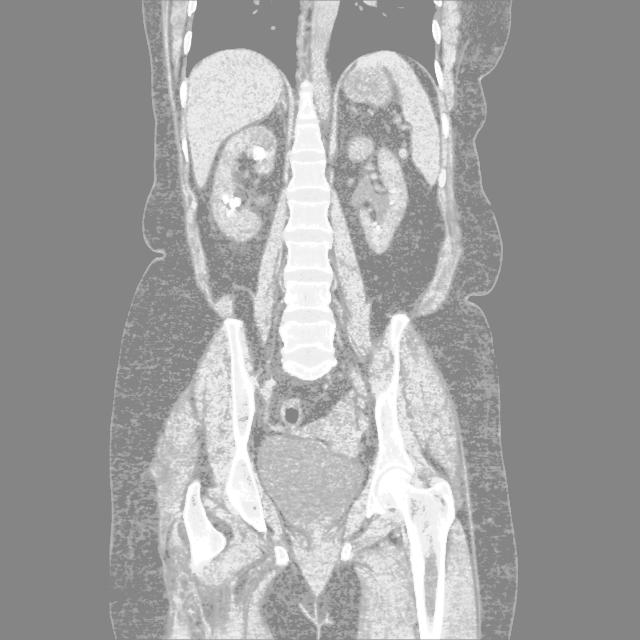STONE: (200, 130, 415, 248)
